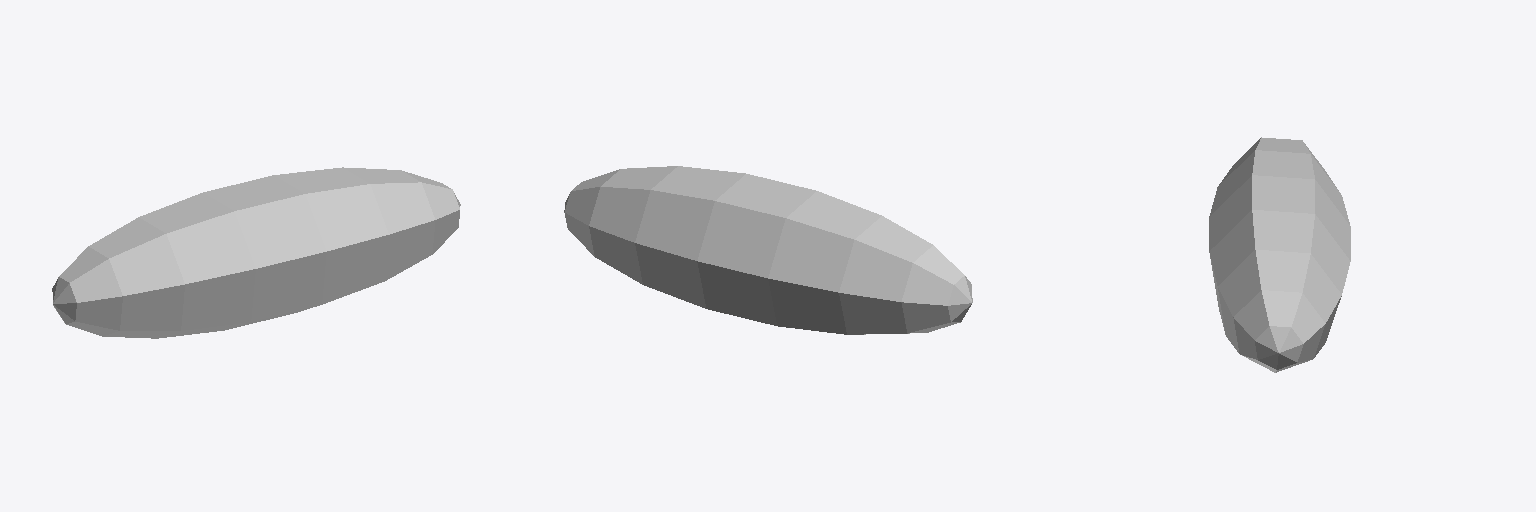
The model's file is corn_chop_1.obj.
3 views of the same model, side by side, from view 1: azimuth 30°, elevation 25°; view 2: azimuth 150°, elevation 25°; view 3: azimuth 270°, elevation 25° (orthographic).
Parts seen in each view (by area): view 1: pSphere1 Corn; view 2: pSphere1 Corn; view 3: pSphere1 Corn.
Part boxes in pixels (x1,y1,x2,y2): pSphere1 Corn: (52,167,460,338); pSphere1 Corn: (564,166,972,334); pSphere1 Corn: (1209,137,1350,372).
Size of the model in its own units: 0.9265 by 0.276 by 0.2784.